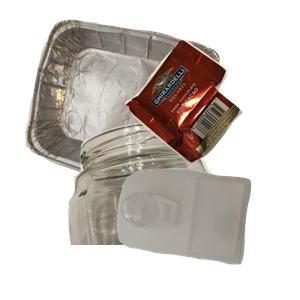glass: (61, 120, 287, 300)
metal: (23, 17, 236, 197)
plastic: (115, 166, 300, 300)
trash: (123, 37, 300, 192)
